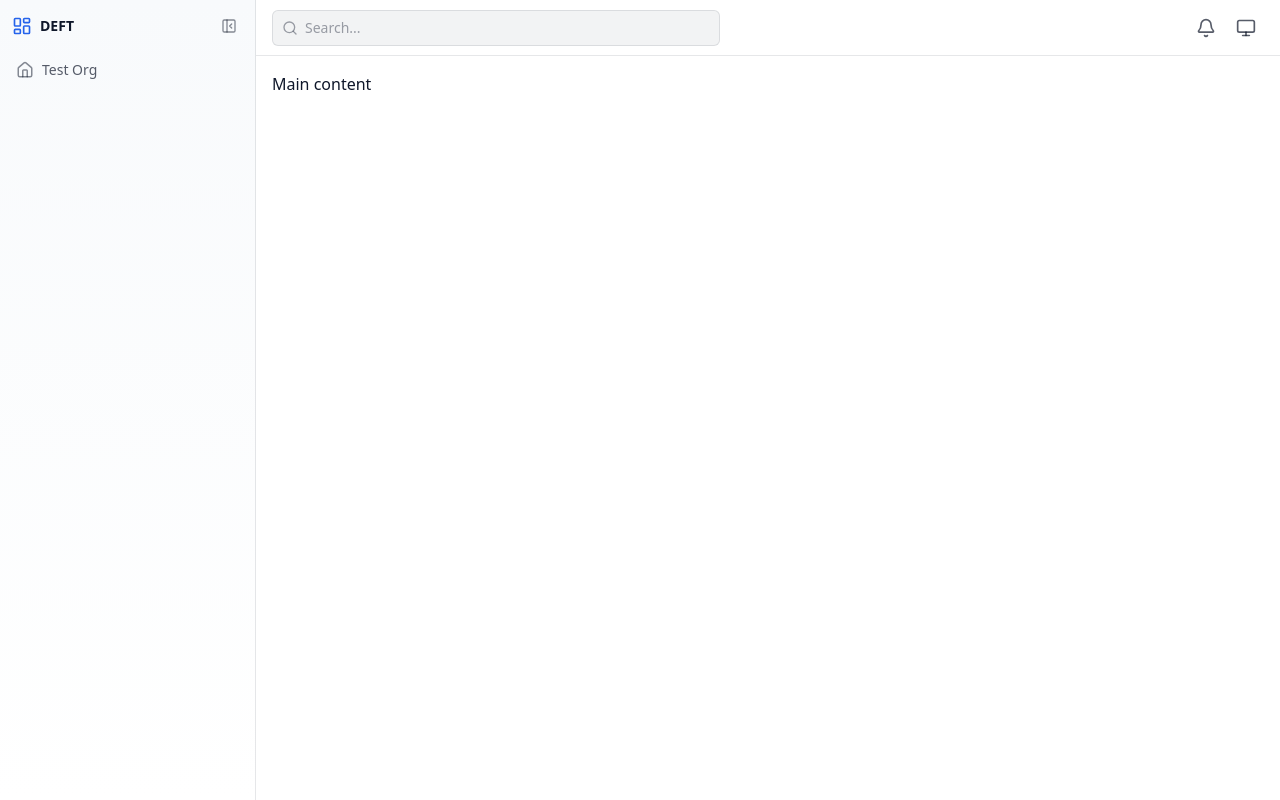
AppLayout › toggles sidebar on button click
This screenshot has width=1280, height=800.
expect the text "Test Org" is shown: met, box [42,60,97,80]
Note: Click collapse.
Click the button with test id "sidebar-toggle": (229, 26) [215,12,243,40]
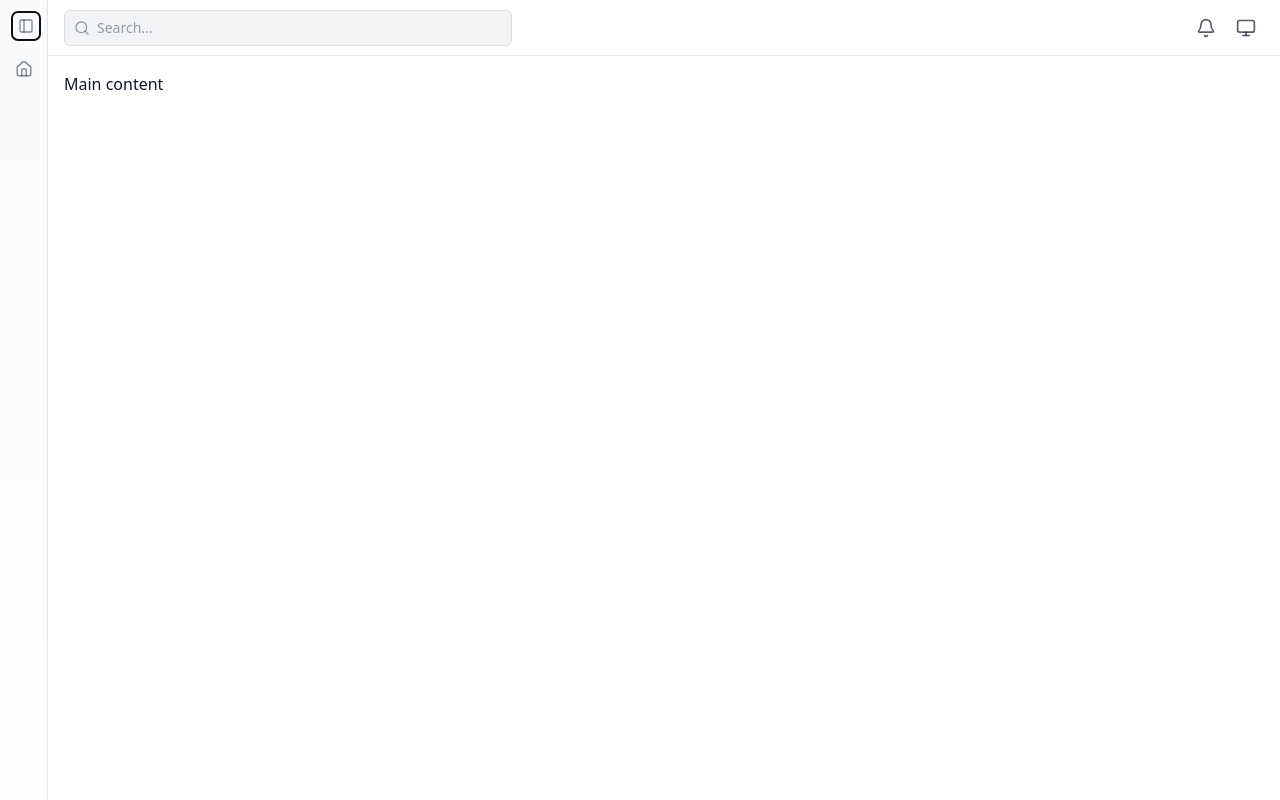
expect the link "Test Org" is gone: met
Note: Click expand.
Click the button with test id "sidebar-toggle": (26, 26) [12,12,40,40]
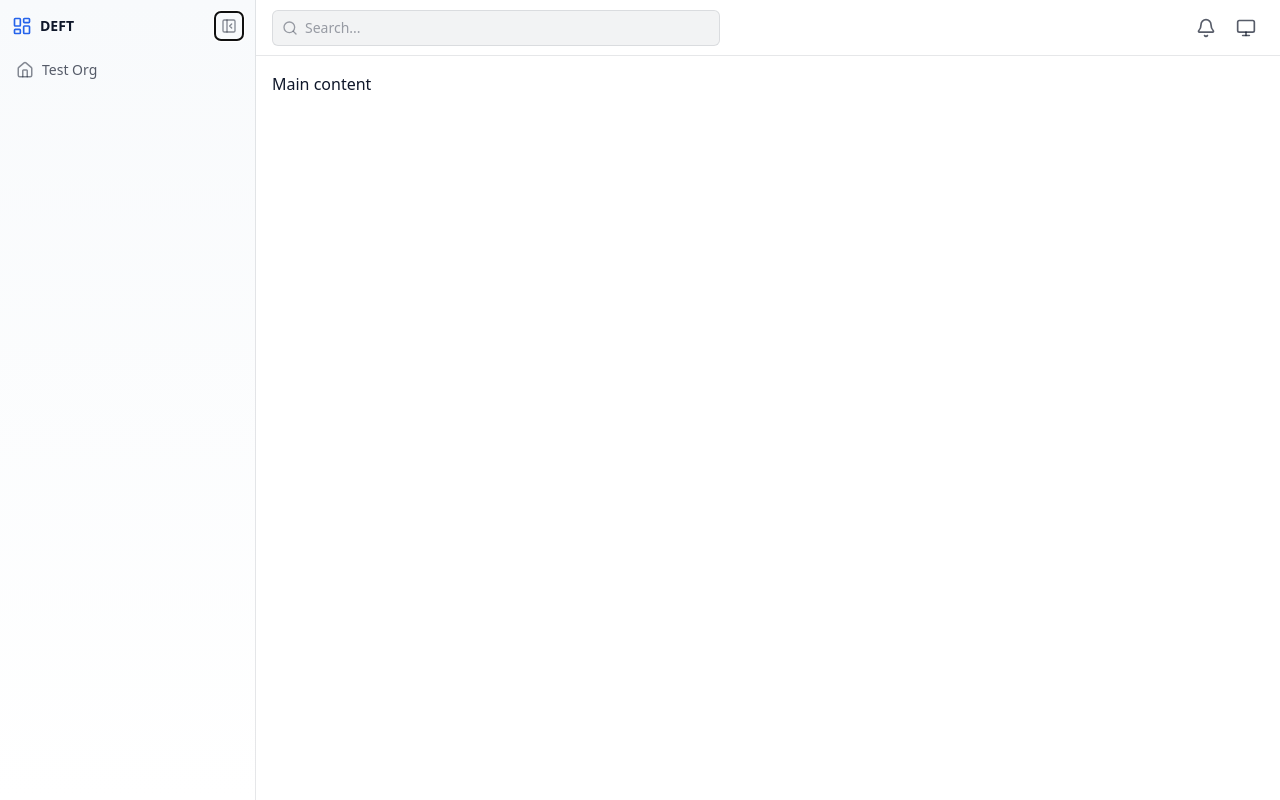
expect the text "Test Org" is shown: met, box [42,60,97,80]
